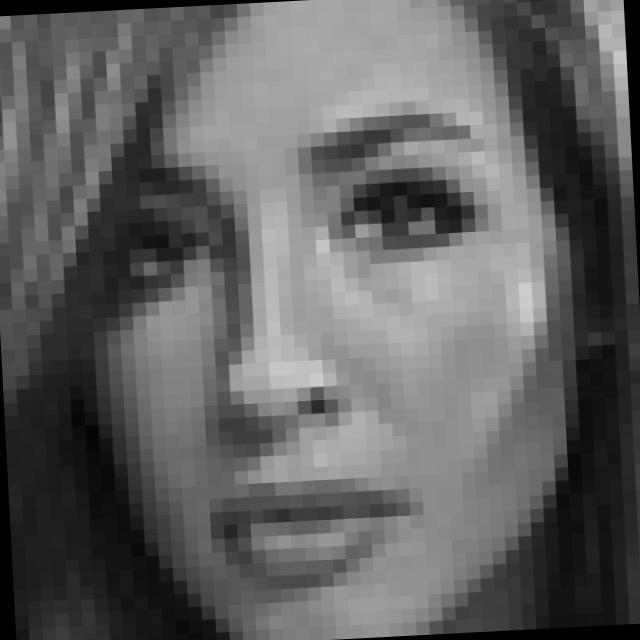neutral: (104, 99, 516, 606)
